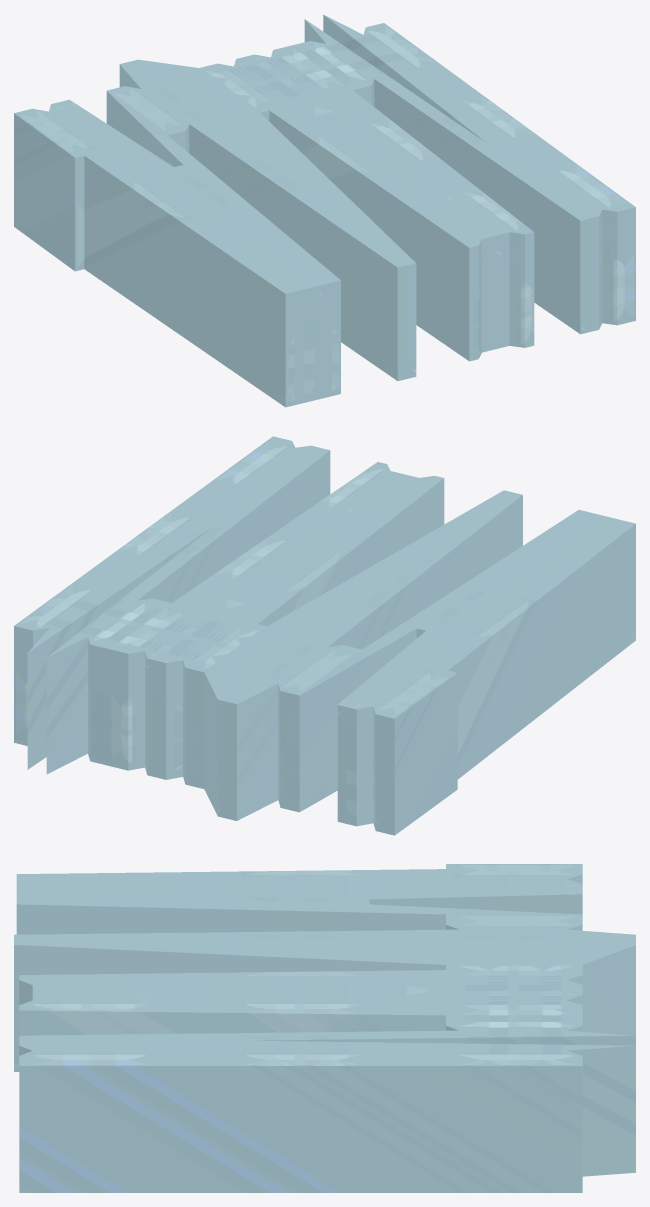
The model's file is Building_Fence_Things_Building_Linked_Fence_Blueprint_Fence_Atlas_Smooth.glb.
3 renders of one model, top to bottom at view 1: azimuth 30°, elevation 25°; view 2: azimuth 150°, elevation 25°; view 3: azimuth 270°, elevation 25°, orthographic. The views are drawn at different scales.
Parts seen in each view (by area): view 1: Body; view 2: Body; view 3: Body.
Boxes of the visible parts, bbox=[...] form: Body: bbox=[14, 14, 635, 407]; Body: bbox=[14, 436, 635, 835]; Body: bbox=[14, 864, 635, 1192].
Bounding box in the file's own units: 2.5 × 0.7332 × 3.25.
1 material, 1 textured.
